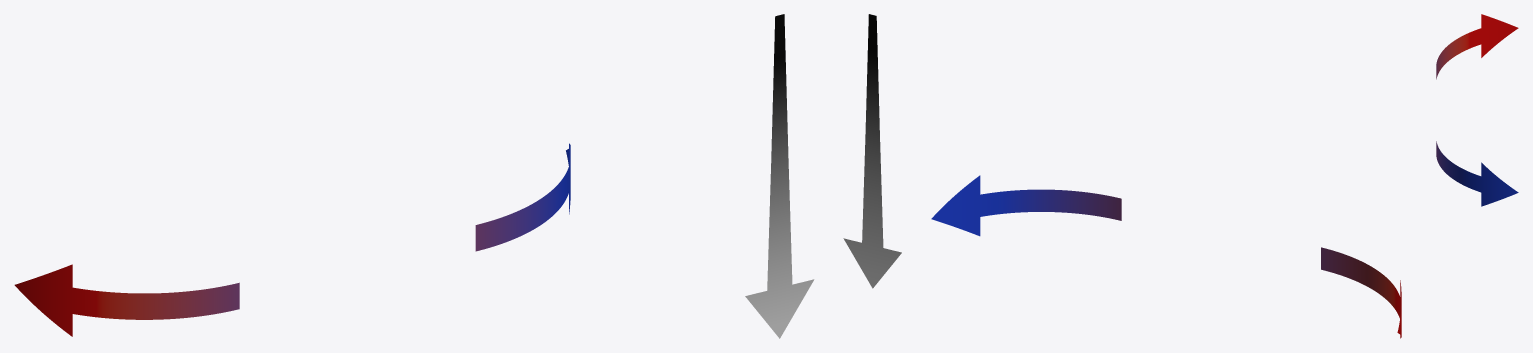
Rendered from faucet3_arrow.fbx.
3 views of the same model, side by side, from view 1: azimuth 30°, elevation 25°; view 2: azimuth 150°, elevation 25°; view 3: azimuth 270°, elevation 25° (orthographic). The views are drawn at different scales.
Visible parts, largest first — view 1: merge3; view 2: merge3; view 3: merge3.
Part boxes in pixels (left/top/right/bottom): merge3: left=14, top=14, right=814, bottom=338; merge3: left=843, top=14, right=1401, bottom=338; merge3: left=1436, top=14, right=1518, bottom=206.
Size of the model in its own units: 1.27 by 0.5389 by 0.2187.
